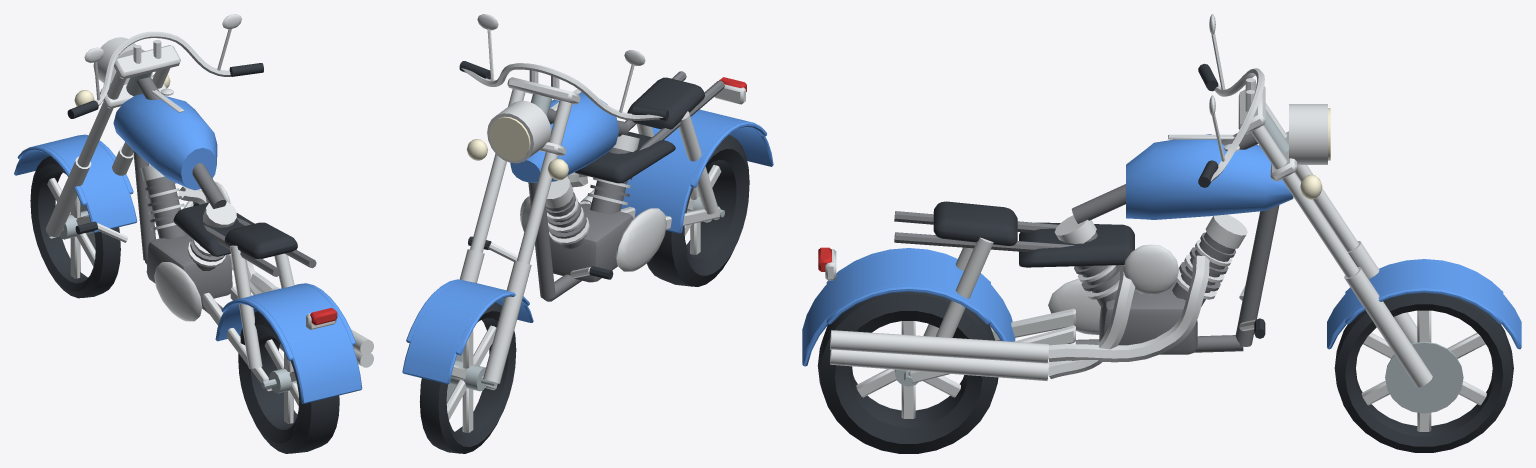
Rendered from Drifter.fbx.
3 renders of one model, left to right at view 1: azimuth 30°, elevation 25°; view 2: azimuth 150°, elevation 25°; view 3: azimuth 270°, elevation 25°, orthographic. The views are drawn at different scales.
Visible parts, largest first — view 1: Body__paint, Body__chrome, Front__chrome, Body__engine, WheelRear__rubber, Front__paint, WheelFront__rubber, Body__rubber, WheelFront__chrome, WheelRear__chrome, Front__rubber, WheelFront__metal (+2 smaller); view 2: Front__chrome, Body__paint, Body__engine, Body__chrome, WheelRear__rubber, Front__paint, Body__rubber, WheelFront__rubber, Front__lamp, WheelFront__chrome, WheelRear__chrome, WheelFront__metal (+1 smaller); view 3: Body__chrome, Body__paint, Front__chrome, WheelRear__rubber, Body__engine, WheelFront__rubber, Body__rubber, Front__paint, WheelFront__metal, WheelFront__chrome, WheelRear__chrome.
Boxes of the visible parts, <box> form: Body__paint: <box>113,93,362,403</box>; Body__chrome: <box>97,88,373,383</box>; Front__chrome: <box>45,14,241,236</box>; Body__engine: <box>133,76,316,313</box>; WheelRear__rubber: <box>238,311,339,453</box>; Front__paint: <box>14,134,137,232</box>; WheelFront__rubber: <box>30,156,120,298</box>; Body__rubber: <box>75,201,297,258</box>; WheelFront__chrome: <box>47,178,95,278</box>; WheelRear__chrome: <box>264,339,299,423</box>; Front__rubber: <box>67,63,263,118</box>; WheelFront__metal: <box>59,204,95,249</box>; Front__chrome: <box>459,14,662,383</box>; Body__paint: <box>510,92,773,233</box>; Body__engine: <box>528,71,724,301</box>; Body__chrome: <box>488,84,745,278</box>; WheelRear__rubber: <box>647,135,749,286</box>; Front__paint: <box>402,279,533,384</box>; Body__rubber: <box>468,77,704,279</box>; WheelFront__rubber: <box>419,302,516,453</box>; Front__lamp: <box>466,116,568,180</box>; WheelFront__chrome: <box>446,325,497,432</box>; WheelRear__chrome: <box>684,165,721,254</box>; WheelFront__metal: <box>446,353,486,402</box>; Body__chrome: <box>825,134,1255,383</box>; Body__paint: <box>802,134,1293,366</box>; Front__chrome: <box>1209,14,1432,387</box>; WheelRear__rubber: <box>817,291,998,453</box>; Body__engine: <box>894,132,1279,354</box>; WheelFront__rubber: <box>1334,292,1513,452</box>; Body__rubber: <box>933,201,1265,338</box>; Front__paint: <box>1327,259,1521,349</box>; WheelFront__metal: <box>1385,341,1463,413</box>; WheelFront__chrome: <box>1361,310,1486,431</box>; WheelRear__chrome: <box>856,321,960,418</box>.
Bounding box in the file's own units: 0.9688 × 1.55 × 2.58.
